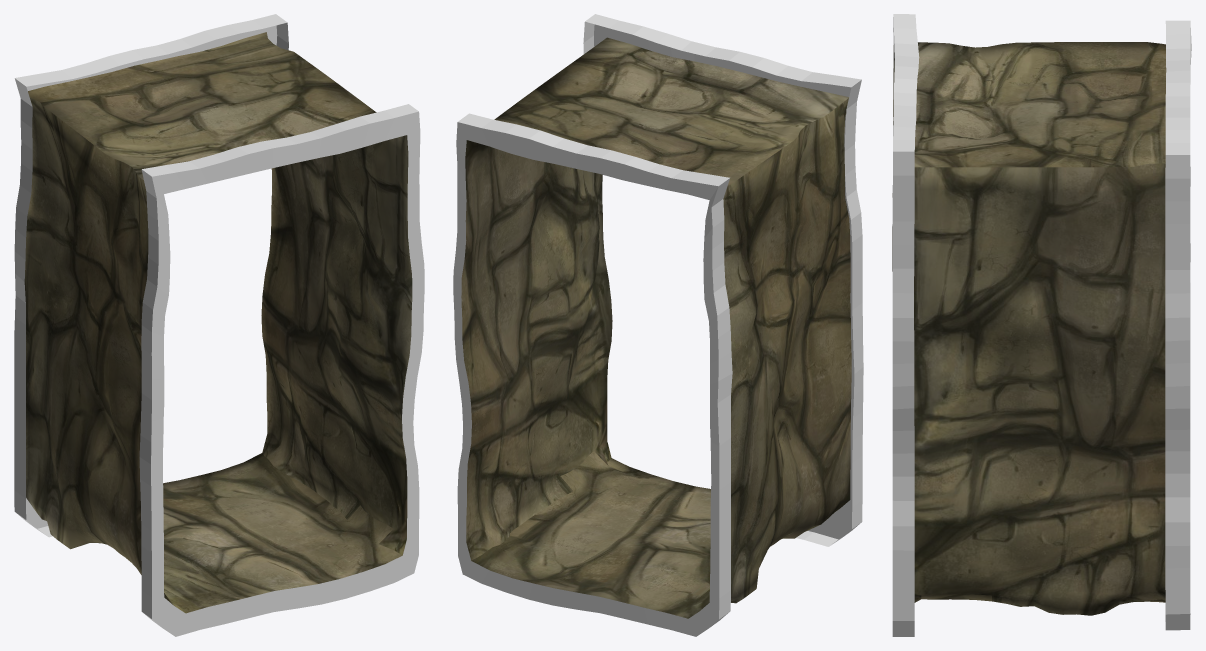
The model's file is cave module 2.fbx.
3 renders of one model, left to right at view 1: azimuth 30°, elevation 25°; view 2: azimuth 150°, elevation 25°; view 3: azimuth 270°, elevation 25°, orthographic. The views are drawn at different scales.
Parts seen in each view (by area): view 1: Plane.2; view 2: Plane.2; view 3: Plane.2.
Part boxes in pixels (x1,y1,x2,y2): Plane.2: (14, 14, 424, 636); Plane.2: (453, 14, 863, 636); Plane.2: (892, 14, 1191, 636).
Size of the model in its own units: 680 by 1107 by 604.
